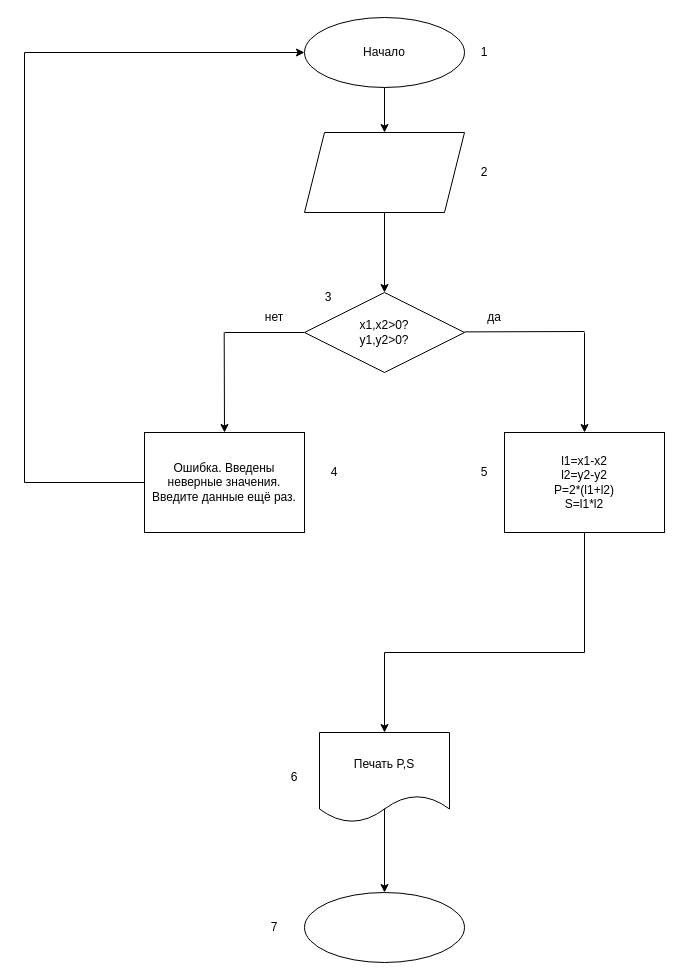
Some shapes in this 682 by 980 pixel diagram are drawn without their labels. The shapes that lost their labels are listed below. From the top down, each one's centre as x and y in pixels, then its label:
the point at 384,172: Ввод x1,y1,x2,y2
the point at 384,927: Конец
